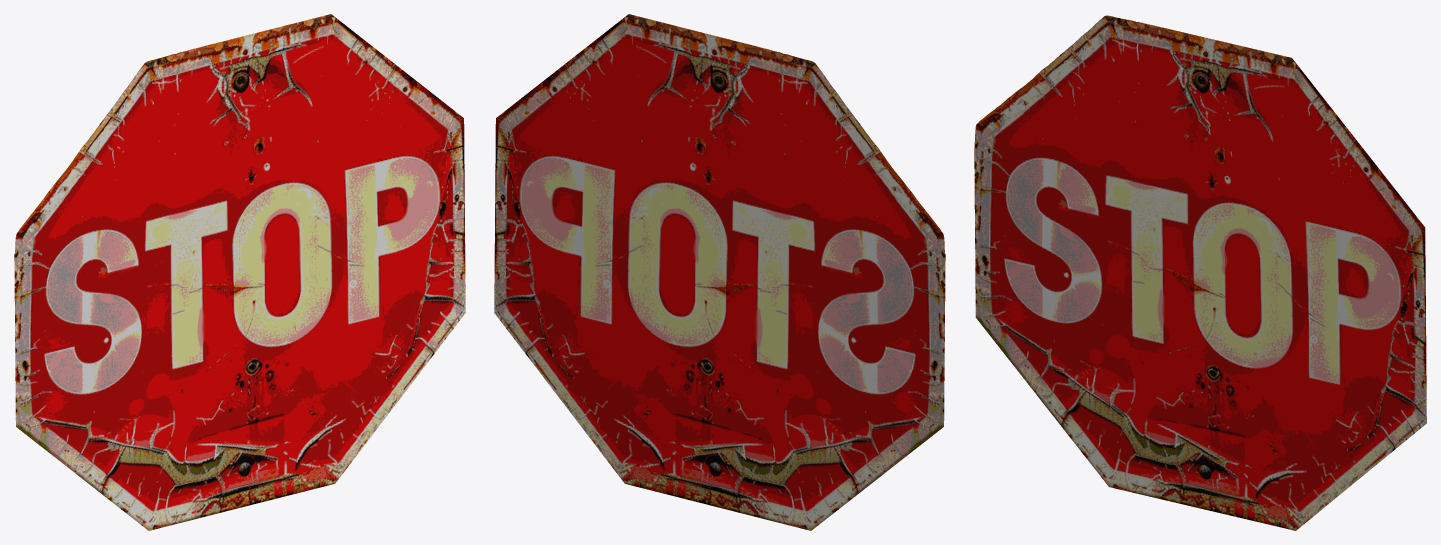
The model's file is PlacaPare.fbx.
3 renders of one model, left to right at view 1: azimuth 30°, elevation 25°; view 2: azimuth 150°, elevation 25°; view 3: azimuth 330°, elevation 25°, orthographic.
Visible parts, largest first — view 1: Cylinder.002; view 2: Cylinder.002; view 3: Cylinder.002.
Boxes of the visible parts, left/top/right/bottom form: Cylinder.002: left=14, top=14, right=465, bottom=530; Cylinder.002: left=494, top=14, right=945, bottom=530; Cylinder.002: left=974, top=15, right=1426, bottom=530.
Size of the model in its own units: 49.02 by 49.02 by 1.07e-05.
1 material, 1 textured.
